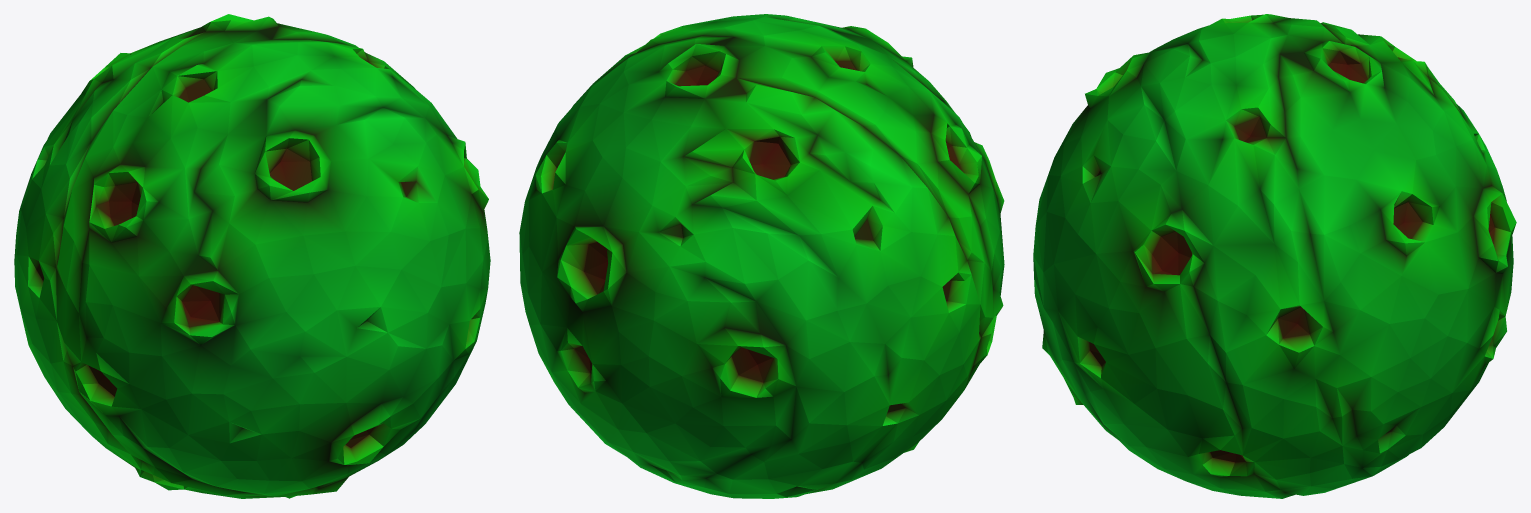
File: moon44.fbx
3 renders of one model, left to right at view 1: azimuth 30°, elevation 25°; view 2: azimuth 150°, elevation 25°; view 3: azimuth 270°, elevation 25°, orthographic.
Visible parts, largest first — view 1: attribblur1; view 2: attribblur1; view 3: attribblur1.
Part boxes in pixels (<box>): attribblur1: <box>14,14,490,498</box>; attribblur1: <box>519,14,1004,498</box>; attribblur1: <box>1033,14,1516,498</box>.
Size of the model in its own units: 1.03 by 1.03 by 1.03.
